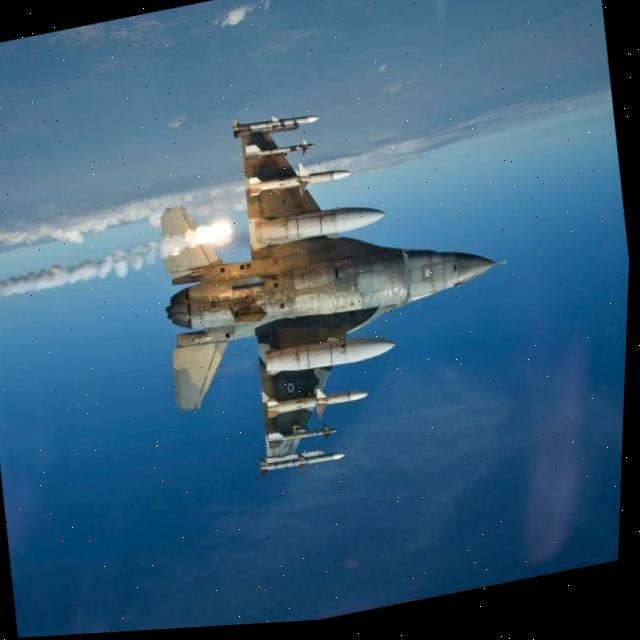missile: (260, 322, 405, 389), (250, 196, 390, 257), (259, 370, 374, 425), (250, 154, 349, 203), (257, 441, 353, 484), (232, 101, 326, 143), (258, 417, 344, 456), (241, 133, 319, 167)
